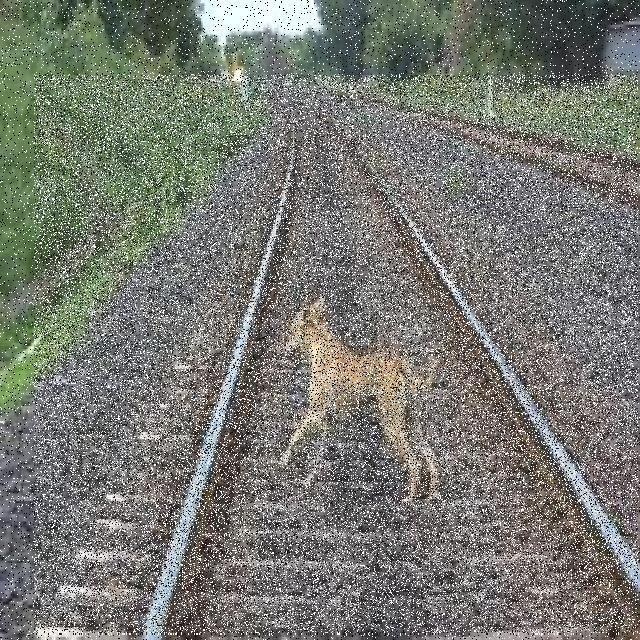rail: (35, 77, 639, 635)
